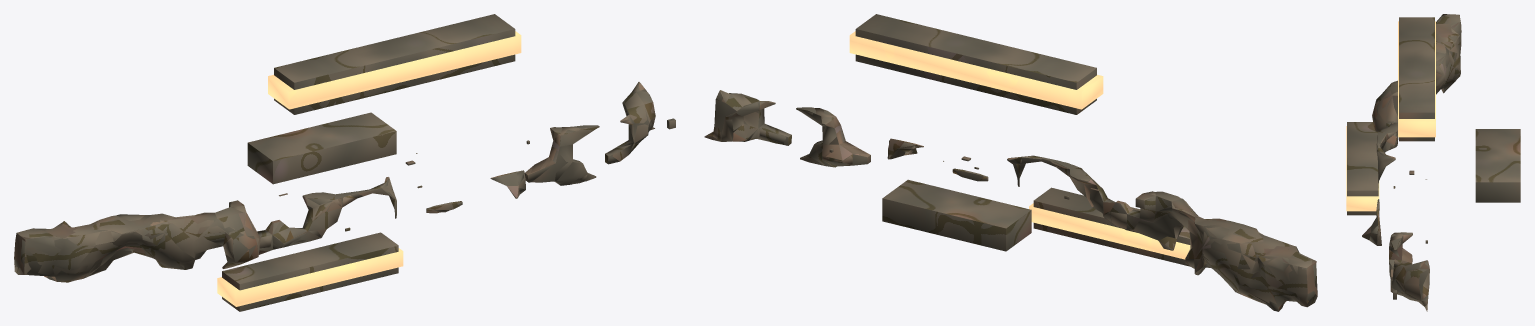
File: helios_rock_a.glb
3 views of the same model, side by side, from view 1: azimuth 30°, elevation 25°; view 2: azimuth 150°, elevation 25°; view 3: azimuth 270°, elevation 25° (orthographic). The views are drawn at different scales.
Visible parts, largest first — view 1: LOD0_Merged_Material_Rock, LOD2_Merged_Material_Rock, LOD0_Merged_Material_Warm, LOD1_Merged_Material_Rock; view 2: LOD0_Merged_Material_Rock, LOD2_Merged_Material_Rock, LOD0_Merged_Material_Warm, LOD1_Merged_Material_Rock; view 3: LOD0_Merged_Material_Rock, LOD2_Merged_Material_Rock, LOD0_Merged_Material_Warm, LOD1_Merged_Material_Rock.
Boxes of the visible parts, box(x1,y1,x2,y2) form: LOD0_Merged_Material_Rock: box(14, 14, 675, 311); LOD2_Merged_Material_Rock: box(14, 82, 654, 282); LOD0_Merged_Material_Warm: box(217, 31, 521, 306); LOD1_Merged_Material_Rock: box(14, 82, 648, 281); LOD0_Merged_Material_Rock: box(704, 14, 1317, 311); LOD2_Merged_Material_Rock: box(707, 91, 1317, 311); LOD0_Merged_Material_Warm: box(849, 31, 1190, 259); LOD1_Merged_Material_Rock: box(721, 98, 1316, 301); LOD0_Merged_Material_Rock: box(1347, 14, 1520, 311); LOD2_Merged_Material_Rock: box(1369, 14, 1461, 306); LOD0_Merged_Material_Warm: box(1346, 21, 1435, 211); LOD1_Merged_Material_Rock: box(1362, 16, 1460, 268).
Size of the model in its own units: 7.07 by 2.02 by 1.93.
2 materials, 2 textured.
